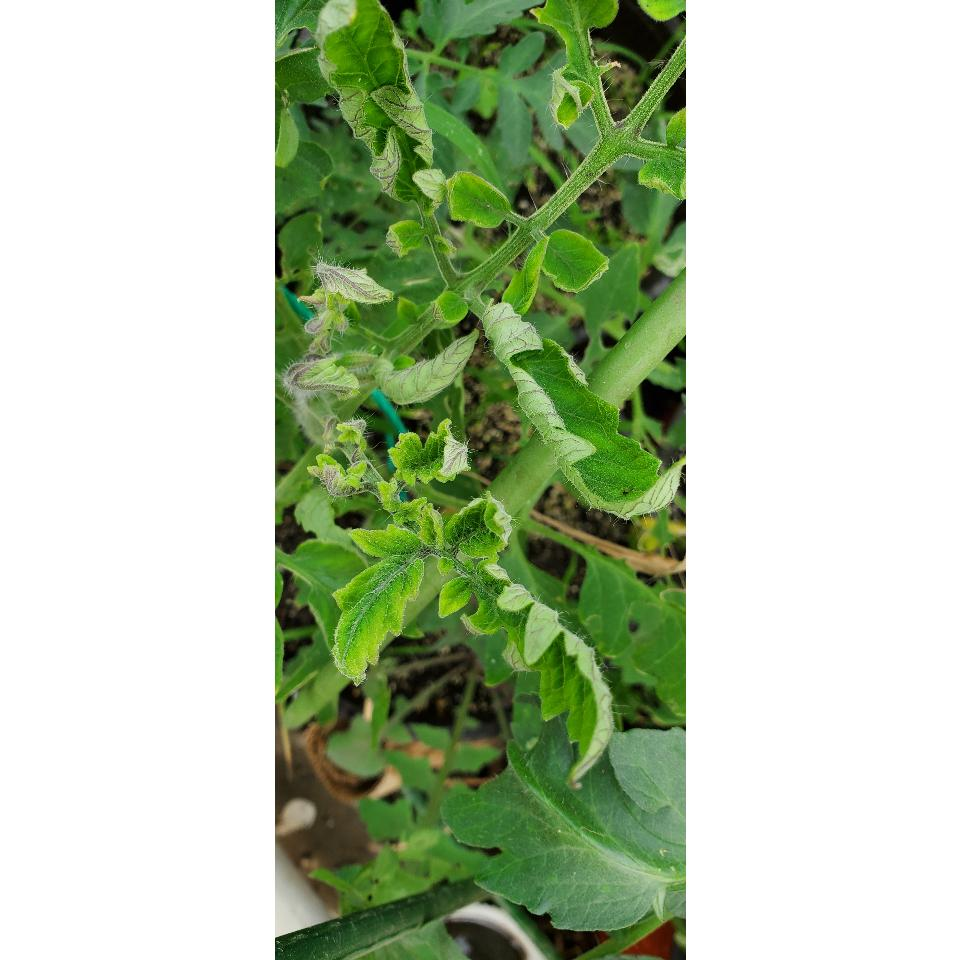tomato_yellow_leaf_curl_virus: (423, 562, 630, 786), (479, 296, 685, 518), (316, 0, 456, 226), (325, 518, 433, 696)
